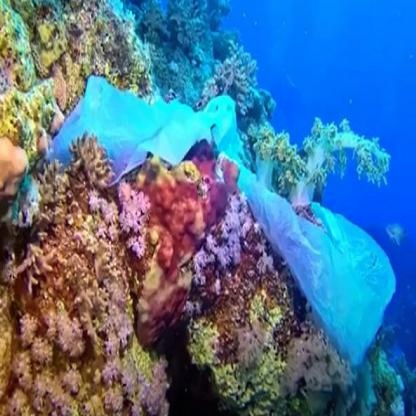plastic: (235, 130, 398, 370), (33, 58, 255, 188)
